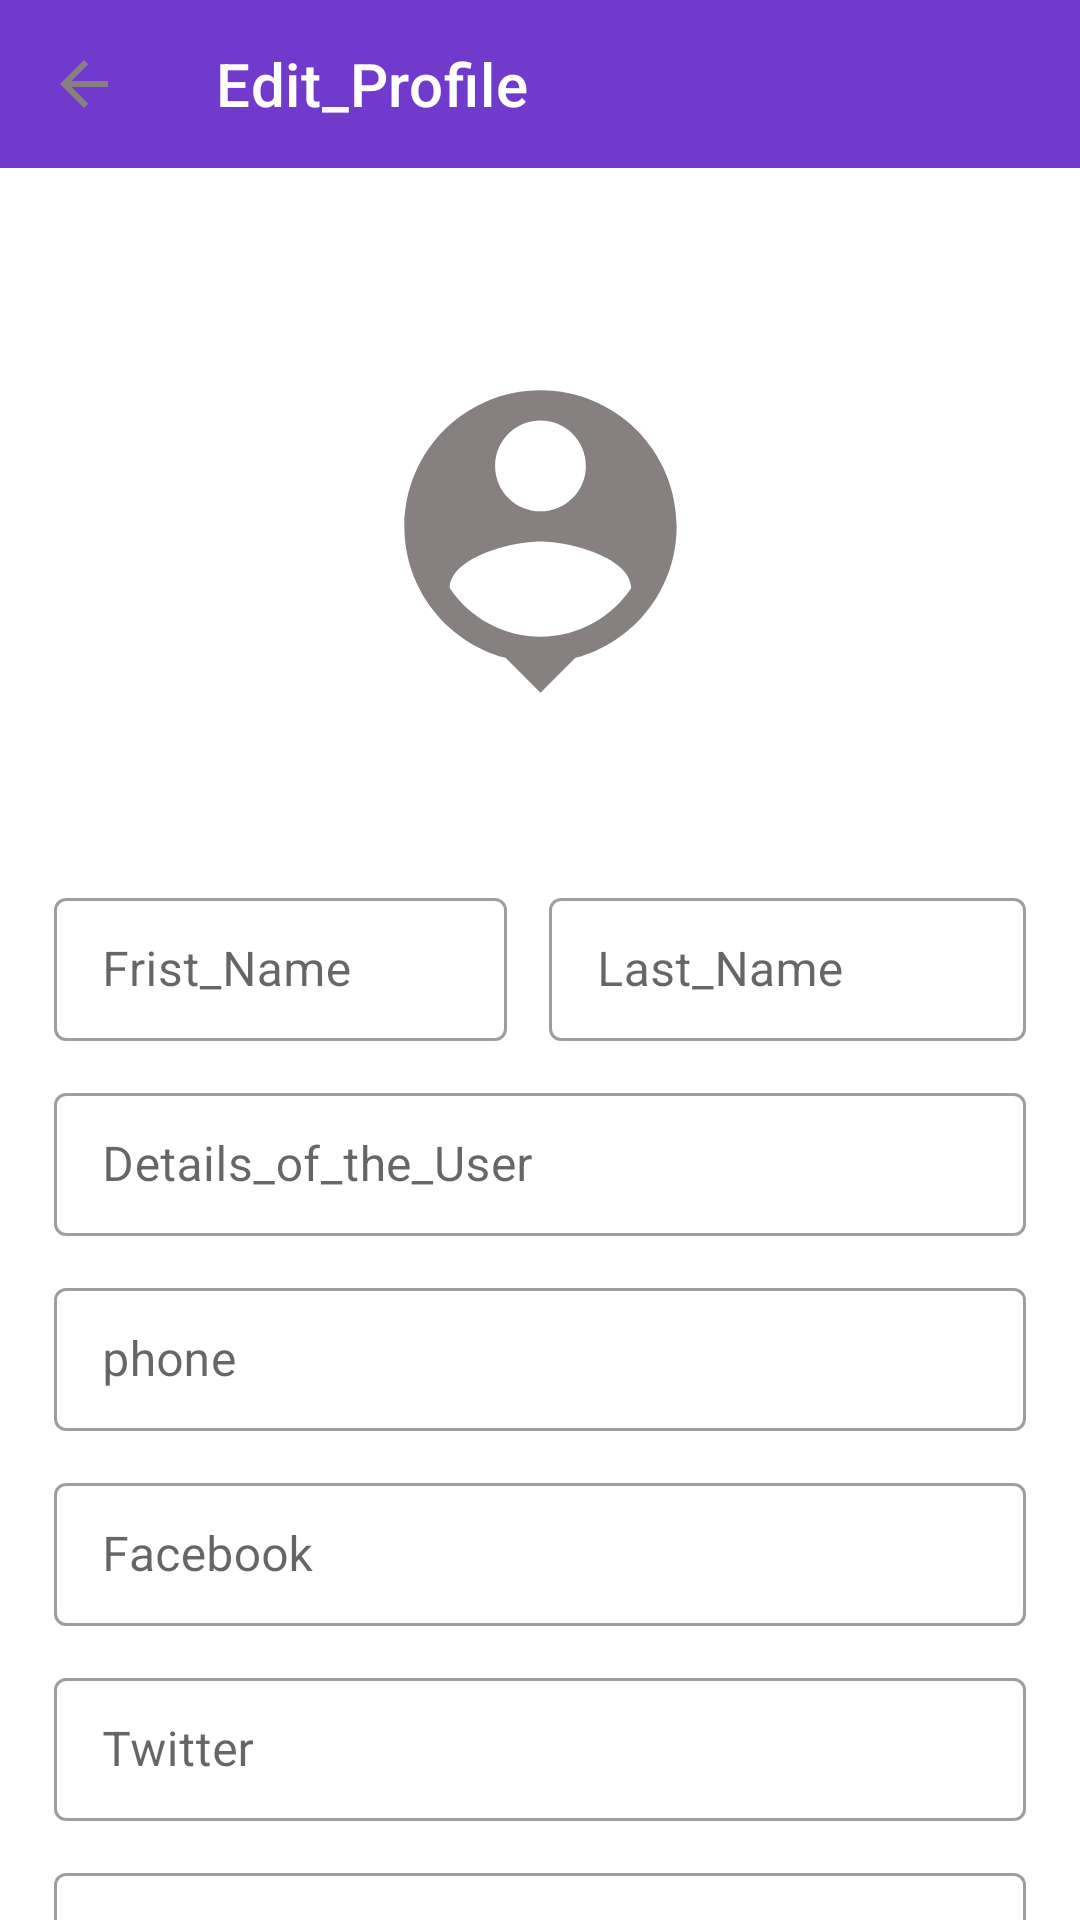

Where to tap for icons on this 1080w x 1920h app screen, as [x,y]:
person pinnn: [540,541]
